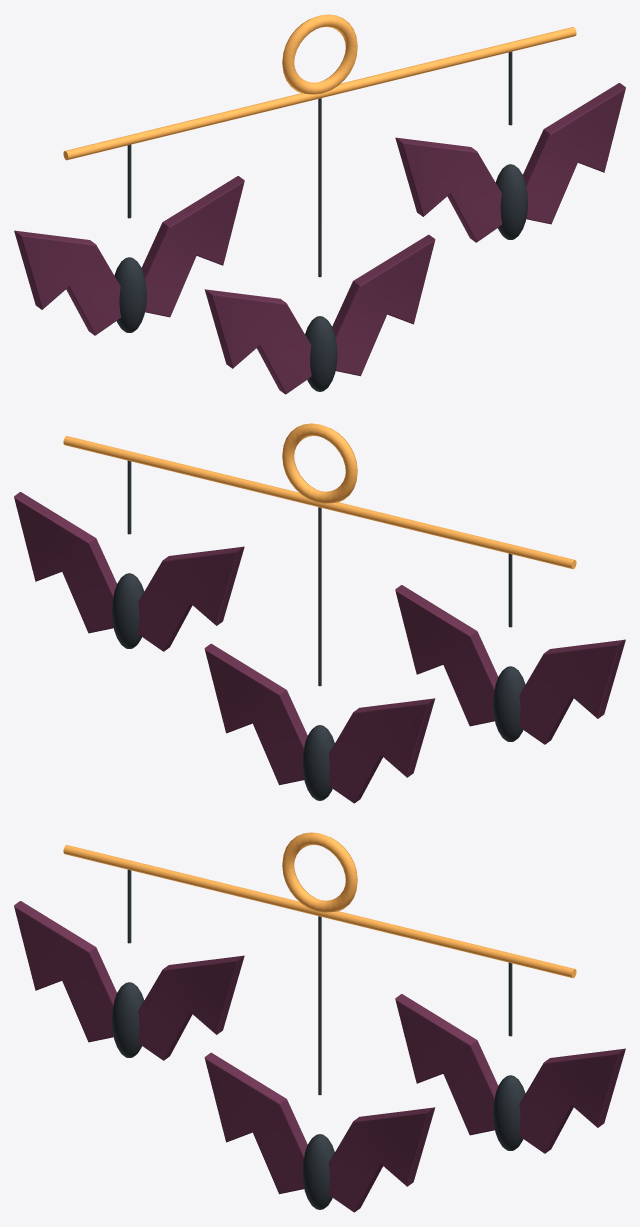
Rendered from hollowwick-halloween-hanging-bat-mobile-807070d8__21645.glb.
3 renders of one model, top to bottom at view 1: azimuth 30°, elevation 25°; view 2: azimuth 150°, elevation 25°; view 3: azimuth 330°, elevation 25°, orthographic.
Visible parts, largest first — view 1: hanging-bat-mobile; view 2: hanging-bat-mobile; view 3: hanging-bat-mobile.
Boxes of the visible parts, x1,y1,x2,y2 form: hanging-bat-mobile: (14,14,625,394); hanging-bat-mobile: (14,423,625,803); hanging-bat-mobile: (14,832,625,1212).
Size of the model in its own units: 1.14 by 0.6782 by 0.0576.
3 materials, 1 textured.
